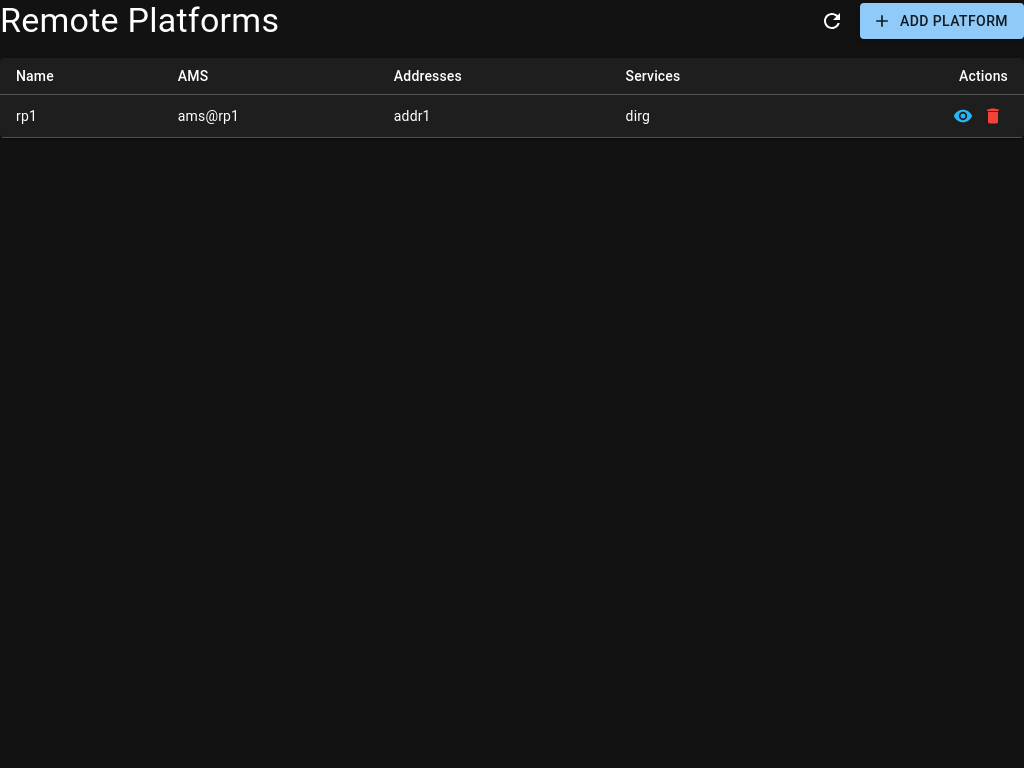
it: PlatformsPage › Given platform listed, When view description clicked, Then shows description dialog
This screenshot has width=1024, height=768.
Check: the text "rp1" is shown, box [0,94,162,138]
Step 1. Click the button named "View Description" → (963, 116), box [948,101,978,131]
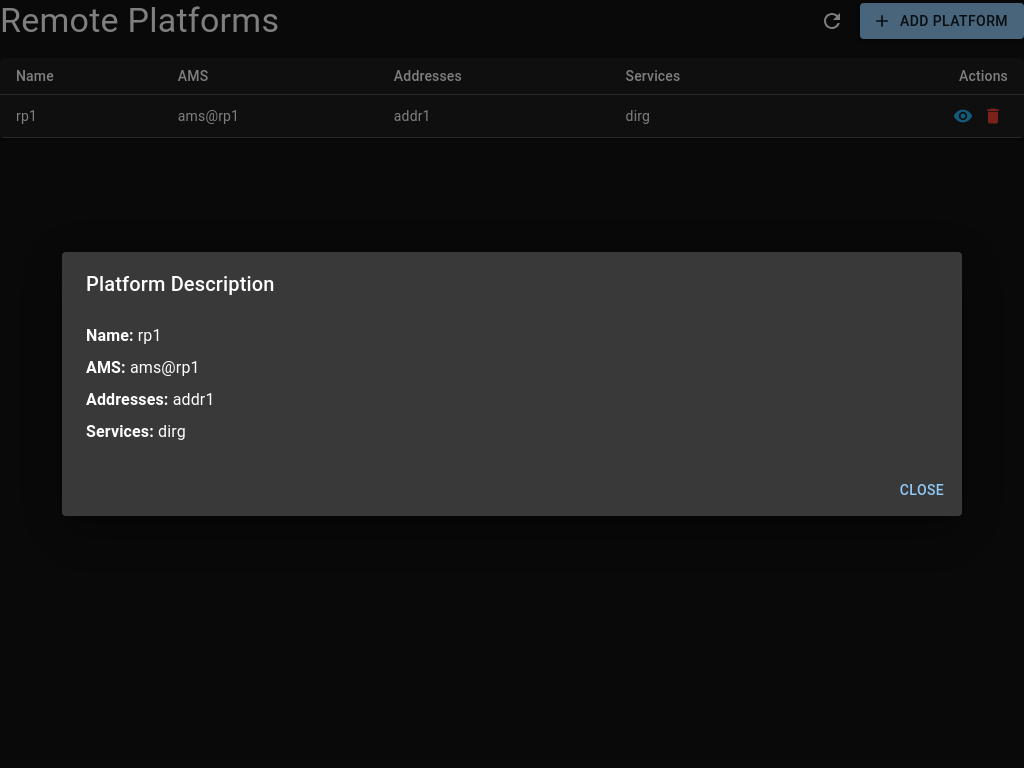
Check: the heading "Platform Description" is shown, box [86,272,275,296]
